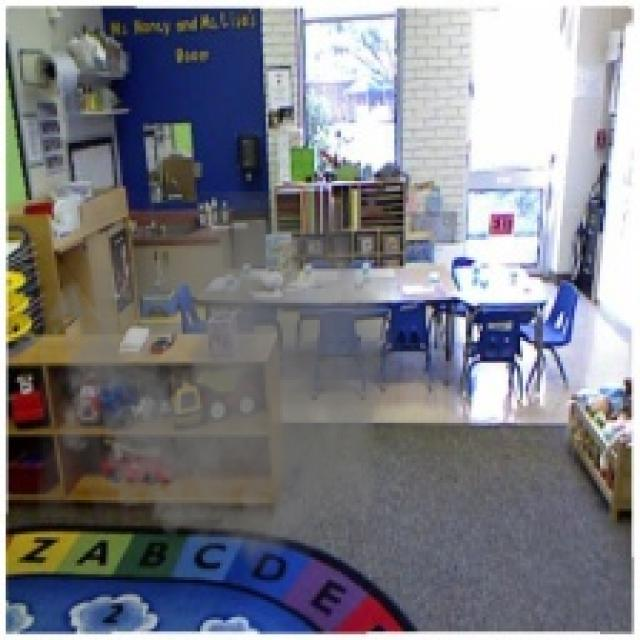smoke: (37, 191, 400, 583)
